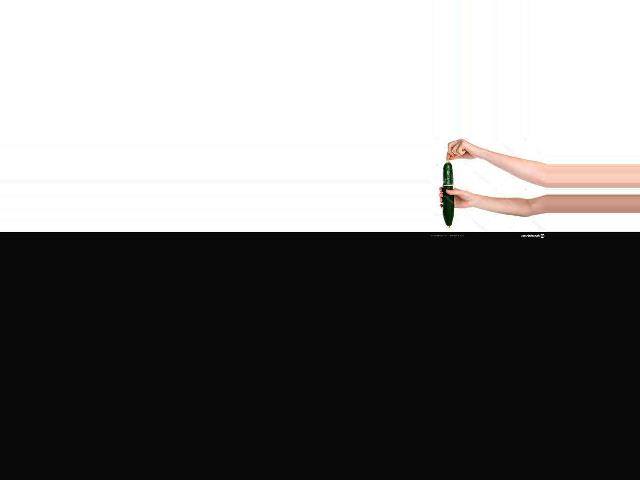cucumber: (442, 162, 452, 228)
